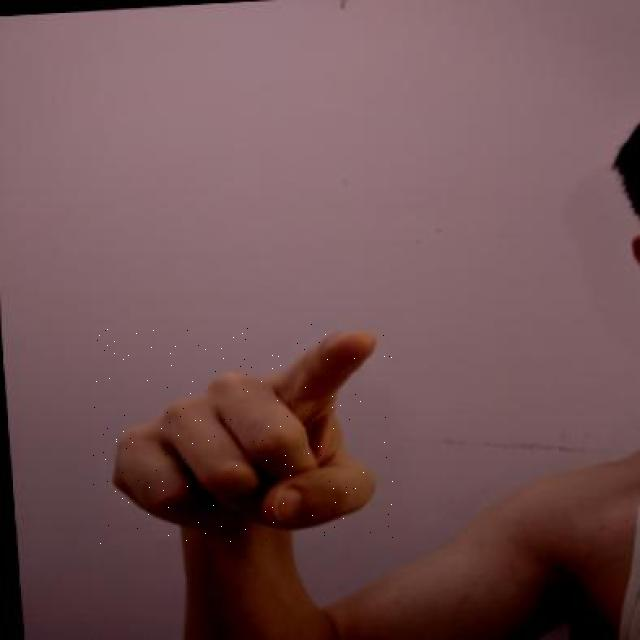Z: (93, 324, 394, 547)
